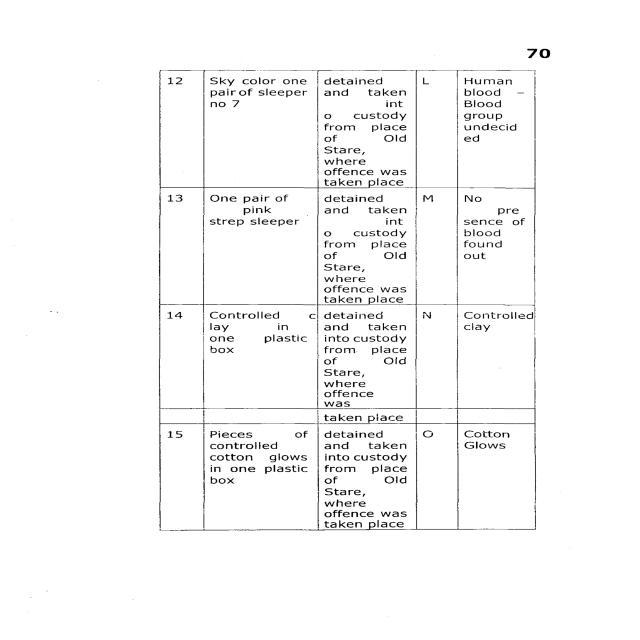page-number: (438, 0, 636, 62)
